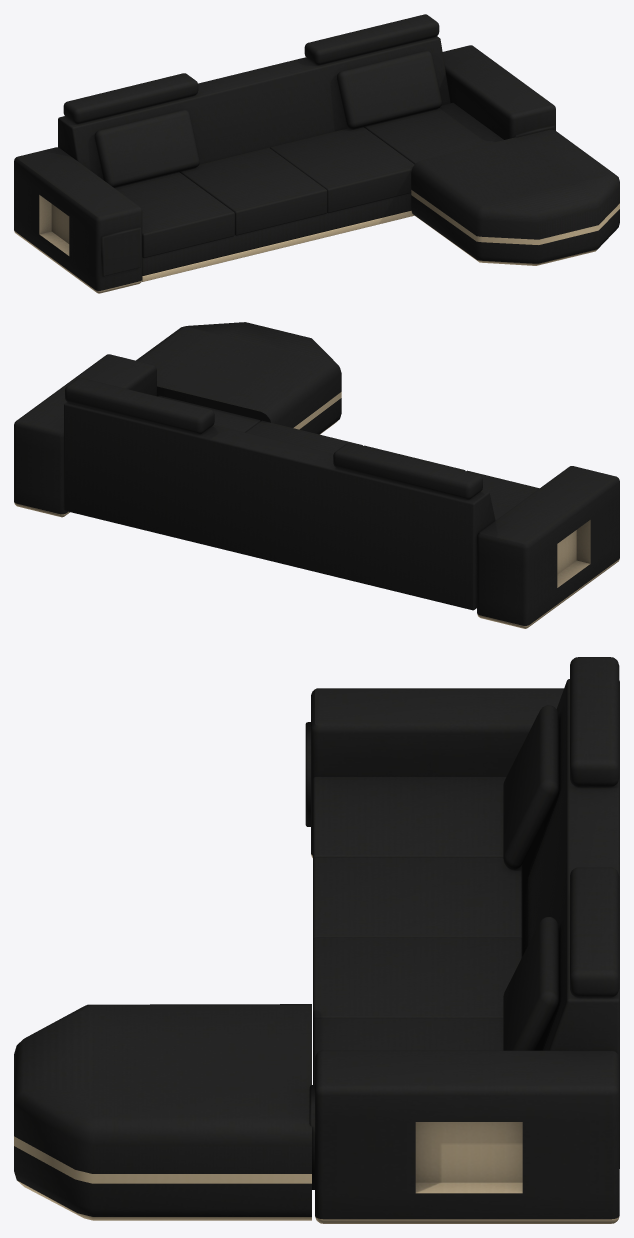
The picture shows the model from 3 angles, top to bottom: view 1: azimuth 30°, elevation 25°; view 2: azimuth 150°, elevation 25°; view 3: azimuth 270°, elevation 25°; orthographic projection. The views are drawn at different scales.
Visible parts, largest first — view 1: Geode; view 2: Geode; view 3: Geode.
Part boxes in pixels (x1,y1,x2,y2): Geode: (14, 14, 619, 293); Geode: (14, 322, 619, 628); Geode: (14, 657, 619, 1223).
Size of the model in its own units: 826 by 205 by 525.
2 materials, 2 textured.
